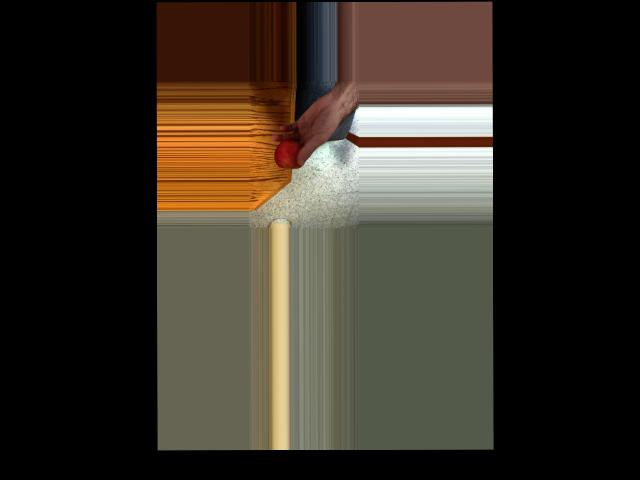apple: (274, 138, 307, 169)
